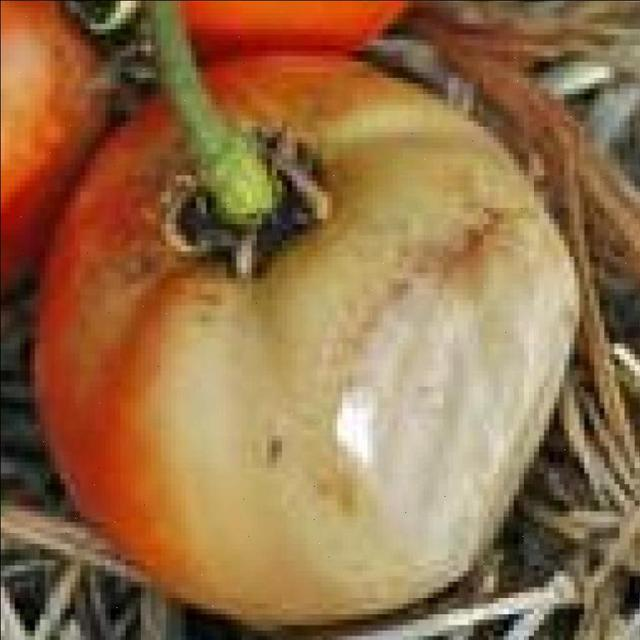Sunscald Fruit: (95, 64, 378, 404)
